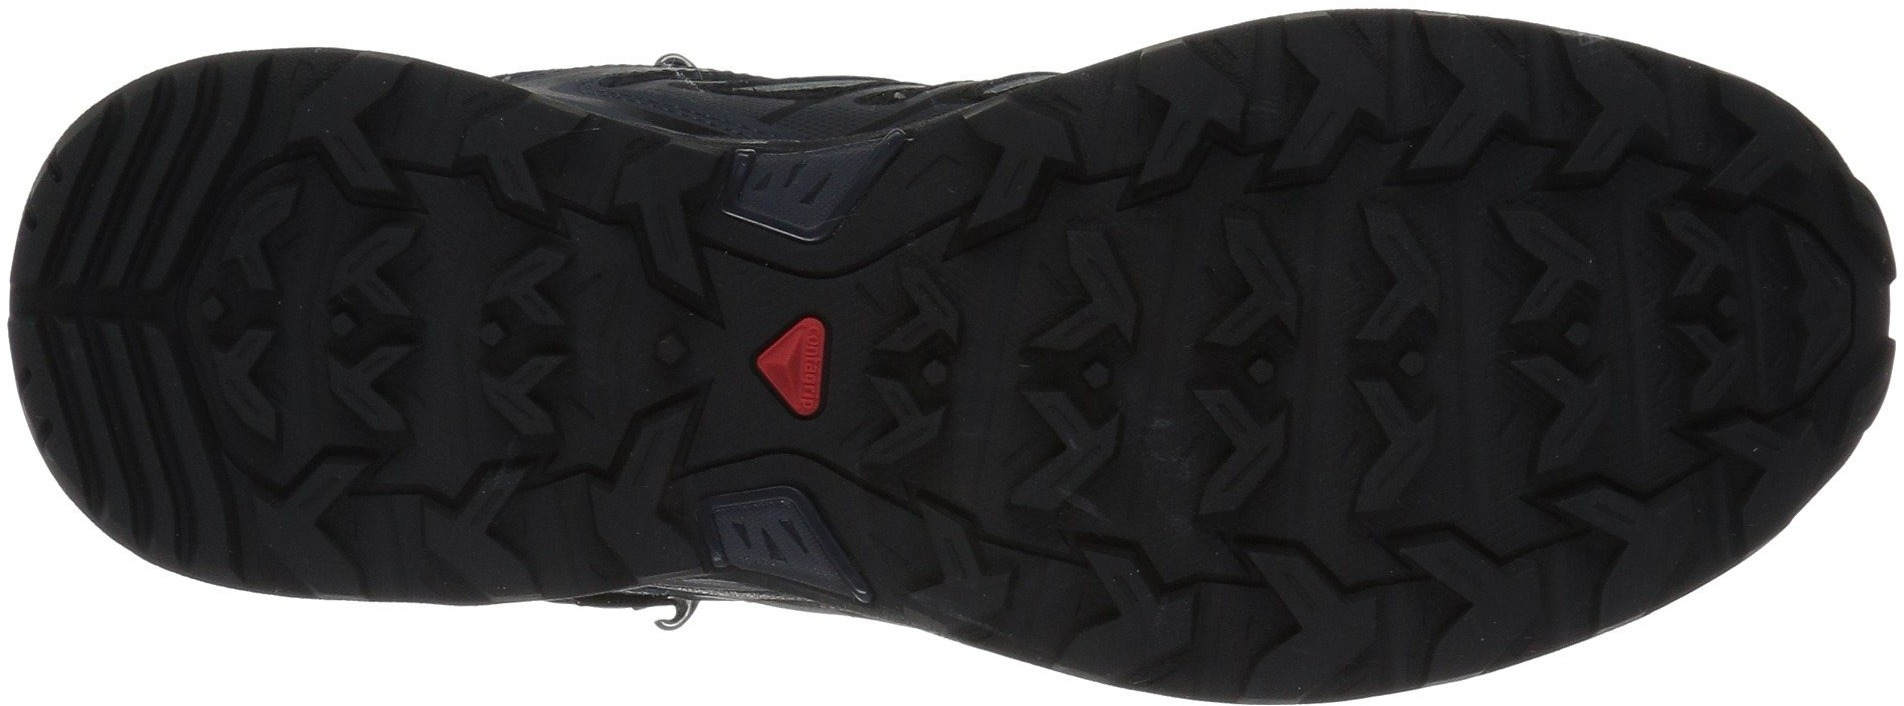chevron: (1344, 56, 1670, 357), (1008, 358, 1331, 660), (1022, 74, 1328, 365), (1347, 352, 1634, 619), (321, 339, 573, 578), (322, 102, 576, 337), (39, 193, 261, 403)
triangle: (733, 305, 852, 430)
